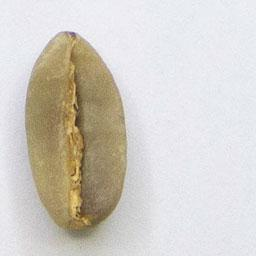longberry: (22, 27, 131, 234)
